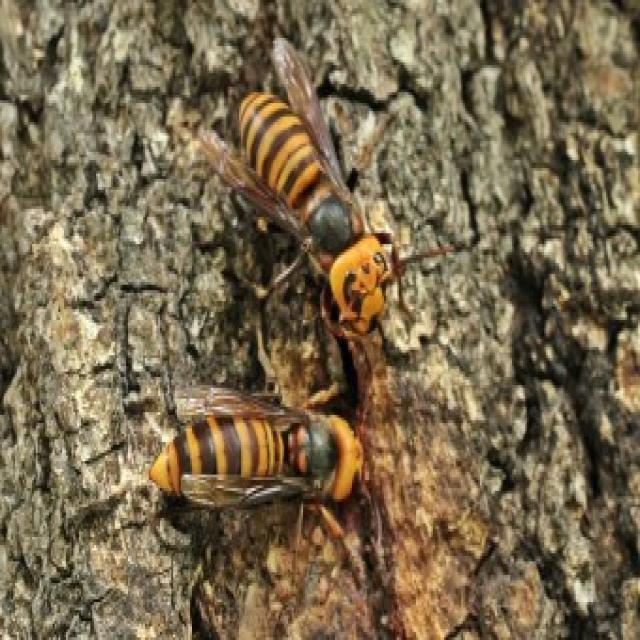Wasp: (182, 29, 458, 342), (146, 361, 394, 554)
